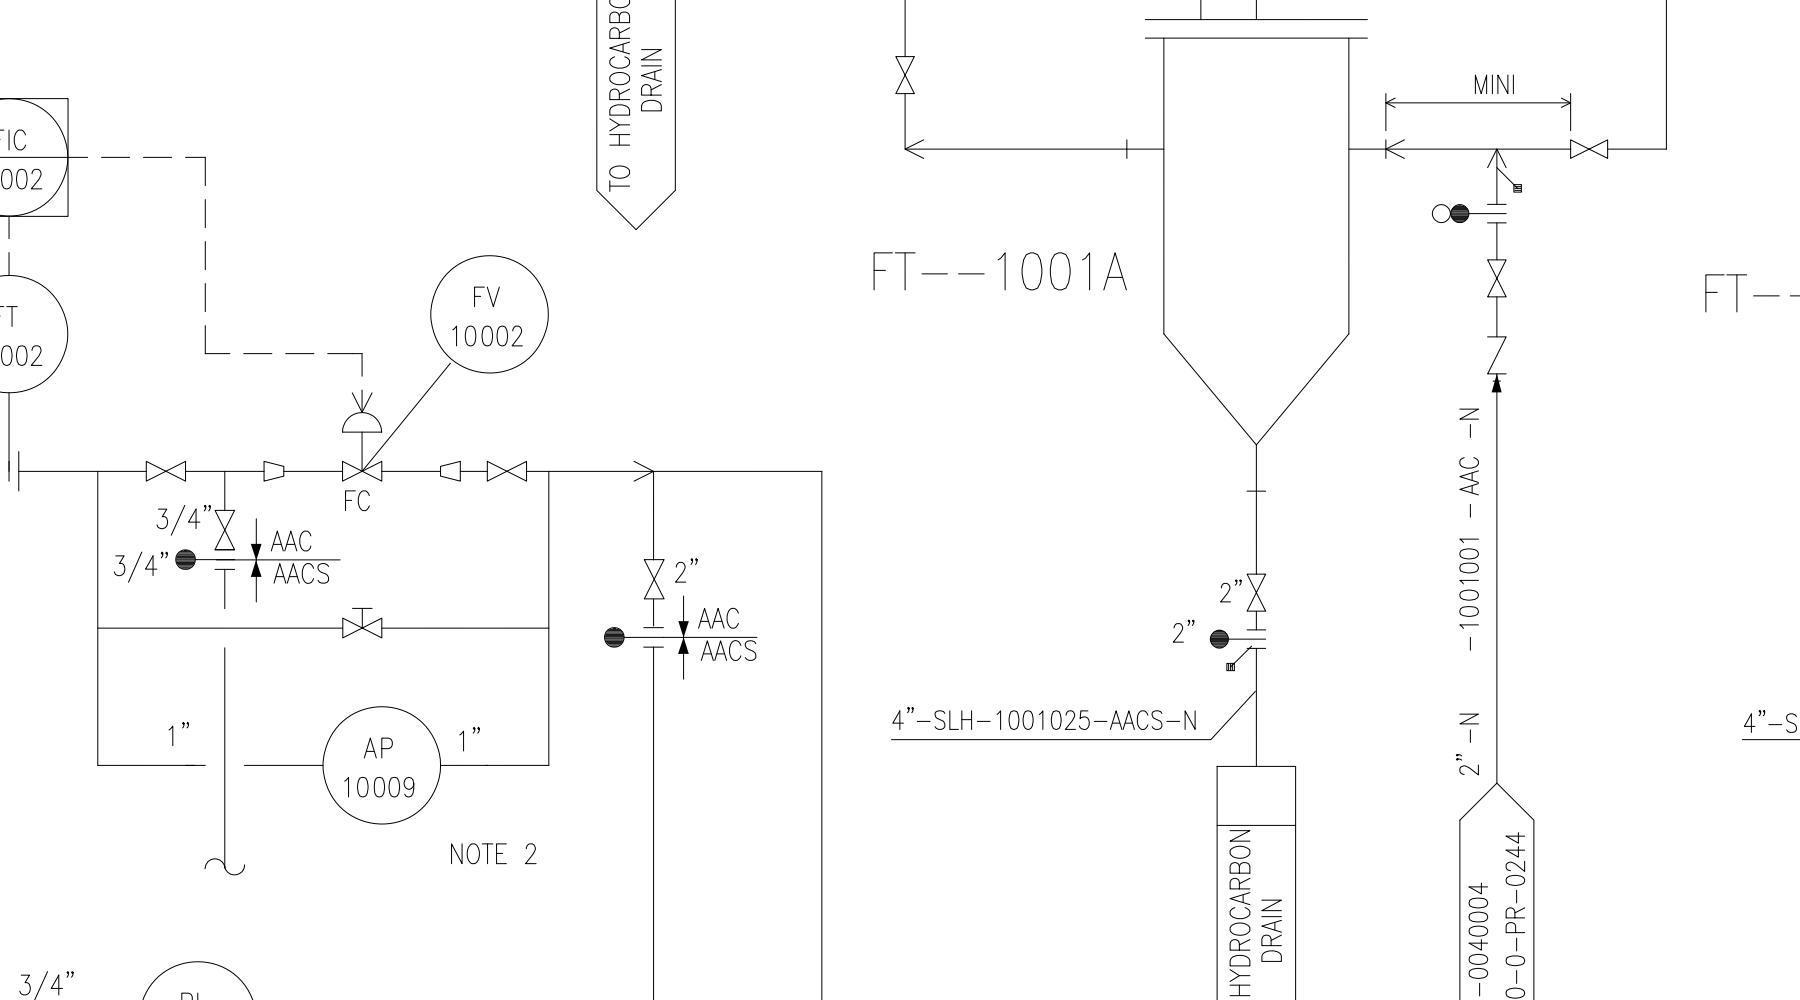FC: (334, 401, 388, 489)
FT2: (1135, 10, 1381, 450)
GV: (890, 52, 927, 100), (1242, 565, 1273, 621), (137, 457, 195, 485), (639, 553, 669, 607), (481, 453, 531, 485), (1564, 137, 1617, 164), (211, 504, 240, 552), (1482, 252, 1511, 302)
HV: (337, 600, 388, 642)
SP: (259, 456, 291, 486), (435, 456, 467, 485)
